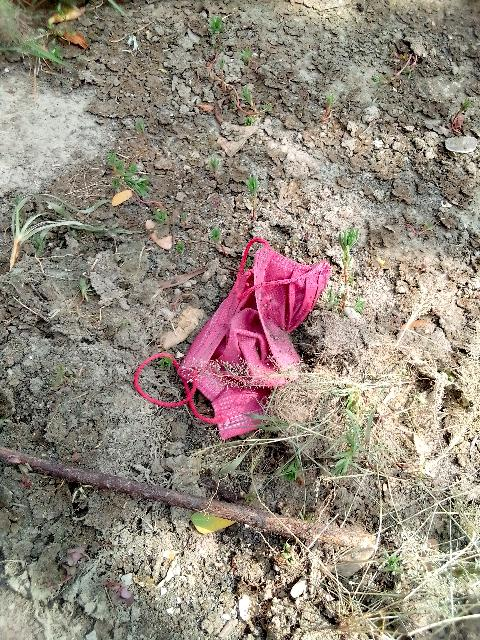mask: (176, 225, 327, 430)
